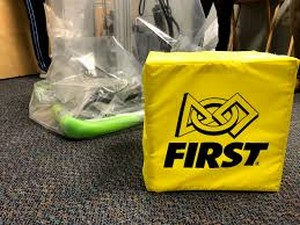cube: (145, 53, 284, 193)
